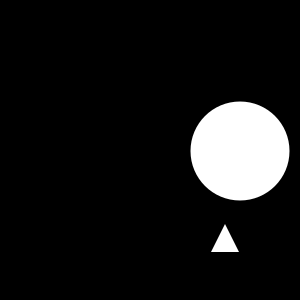rectangle: (190, 101, 290, 200)
triangle: (211, 224, 239, 252)
